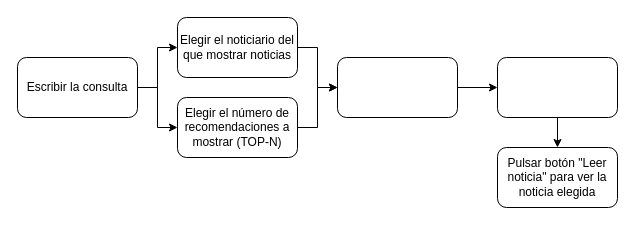
Image size: 635x225. Some labels were removed from this diagram. Each missing label, with the box of its shape:
Elegir recomendación para leer: (496, 56, 618, 118)
Pulsar botón "Pulsar" para mostrar recomendaciones: (336, 56, 458, 118)
